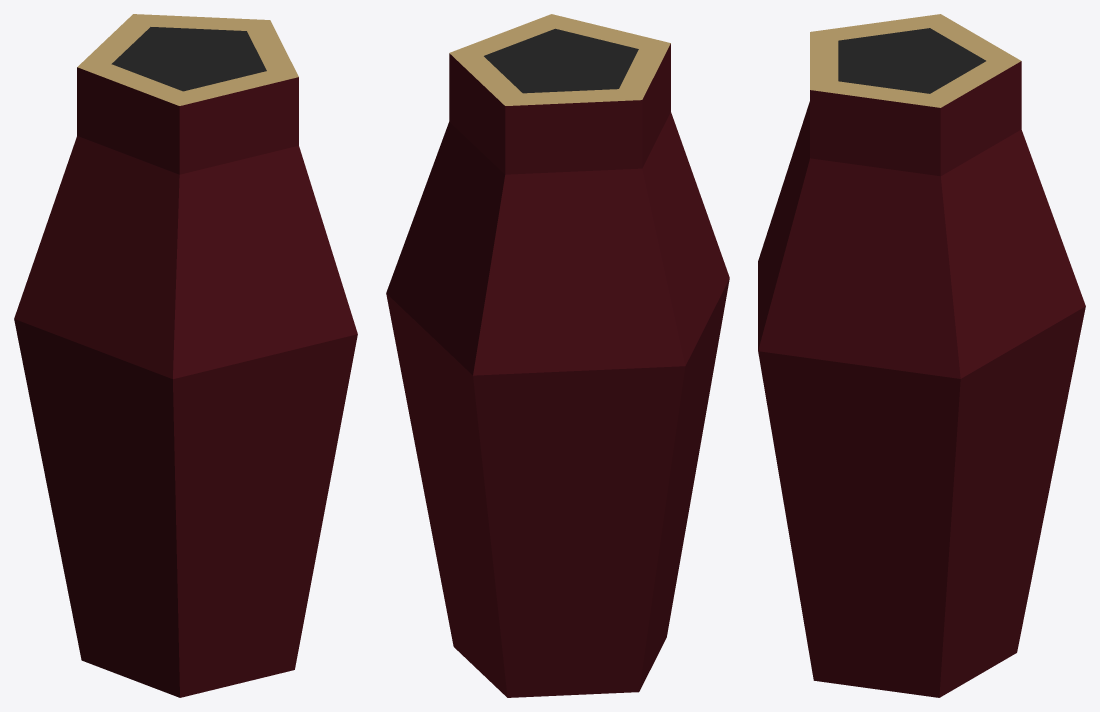
The model's file is TB_Prop_Jar_Tall_B.FBX.
3 views of the same model, side by side, from view 1: azimuth 30°, elevation 25°; view 2: azimuth 150°, elevation 25°; view 3: azimuth 270°, elevation 25° (orthographic).
Parts seen in each view (by area): view 1: TB_Prop_Jar_Tall_B; view 2: TB_Prop_Jar_Tall_B; view 3: TB_Prop_Jar_Tall_B.
Part boxes in pixels (x1,y1,x2,y2): TB_Prop_Jar_Tall_B: (14,14,357,697); TB_Prop_Jar_Tall_B: (386,14,729,697); TB_Prop_Jar_Tall_B: (758,14,1085,697).
Size of the model in its own units: 0.9512 by 1.8 by 0.9046.
